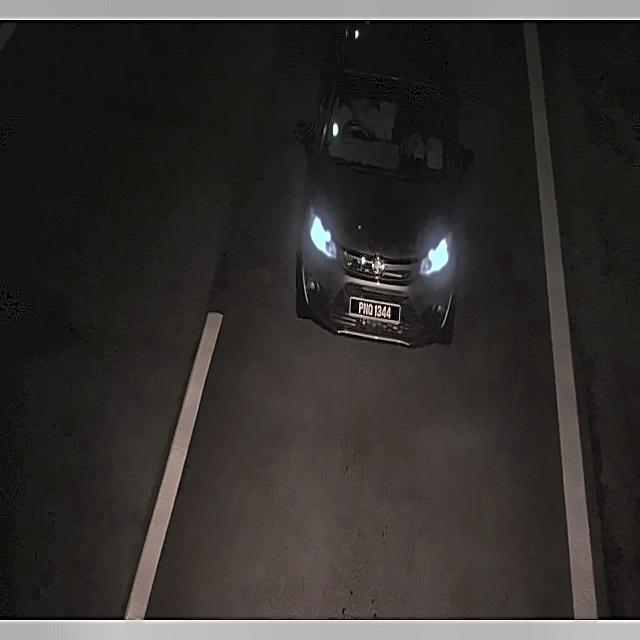car: (341, 292, 408, 332)
